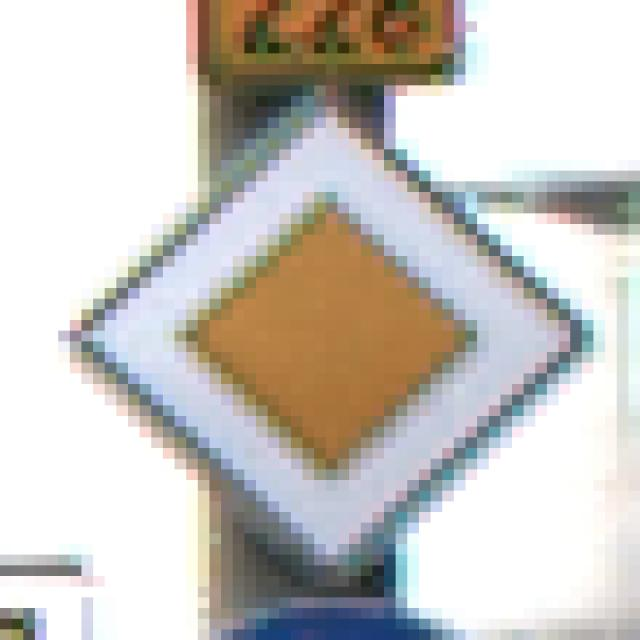Main Road: (59, 65, 583, 577)
